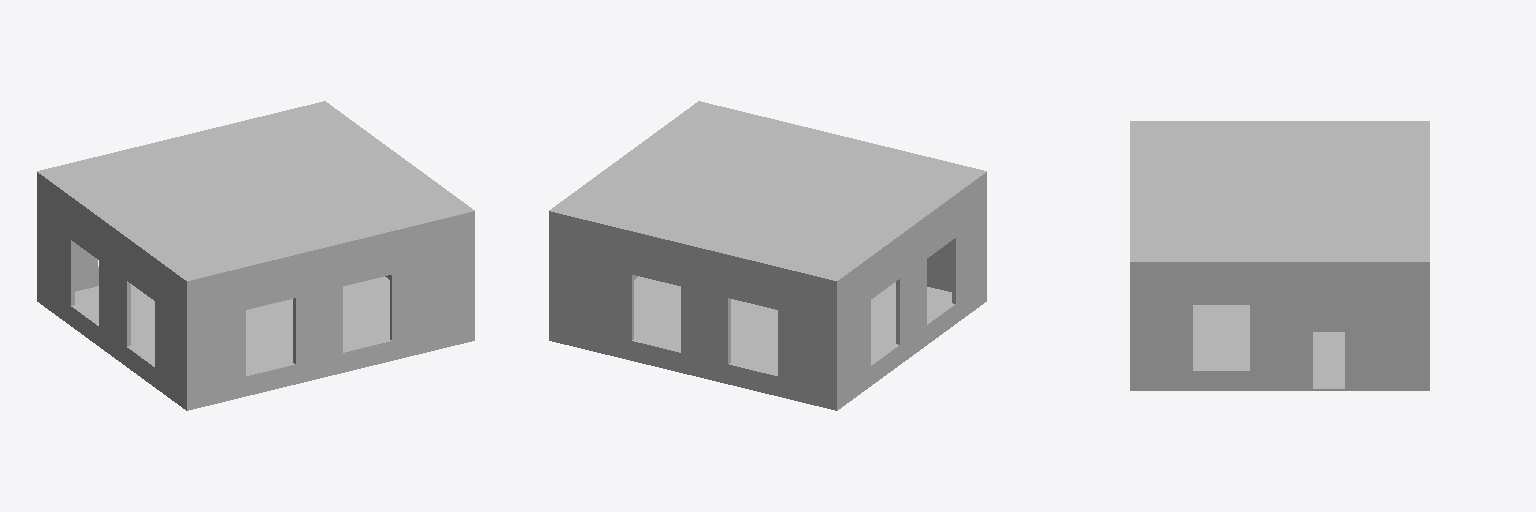
Rendered from Fitnessstudio.obj.
3 views of the same model, side by side, from view 1: azimuth 30°, elevation 25°; view 2: azimuth 150°, elevation 25°; view 3: azimuth 270°, elevation 25° (orthographic).
Parts seen in each view (by area): view 1: Cube; view 2: Cube; view 3: Cube.
Boxes of the visible parts, x1=… form: Cube: x1=37, y1=101, x2=474, y2=410; Cube: x1=549, y1=101, x2=986, y2=410; Cube: x1=1130, y1=121, x2=1429, y2=390.
Bounding box in the file's own units: 34.95 × 15 × 31.52.